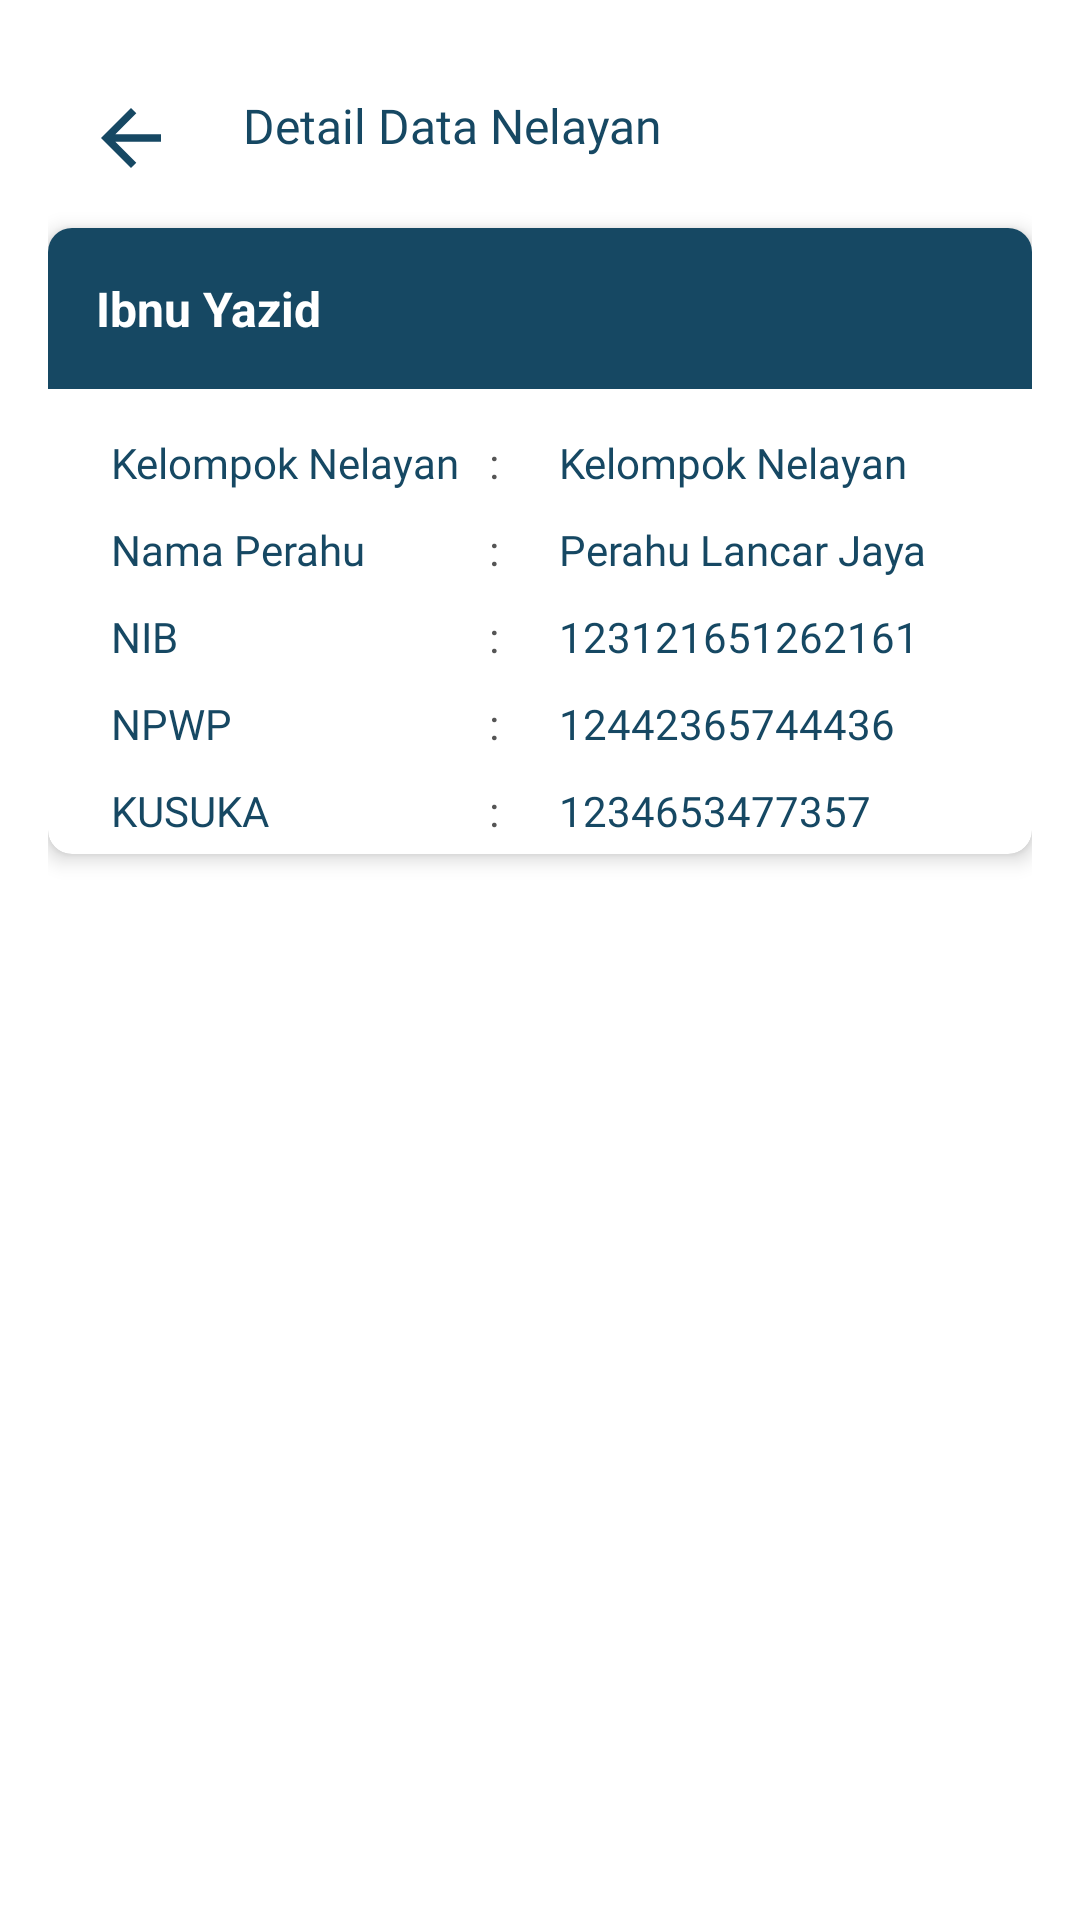

Screen size 1080x1920. Icon name, then its center in pixels as [x,y]:
Back Icon: [131,138]
